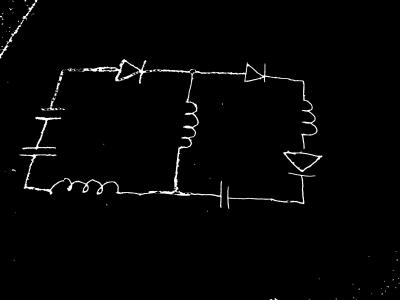capacitor: (37, 177, 128, 198), (172, 96, 201, 159), (296, 92, 320, 142)
diode: (17, 142, 60, 162), (31, 102, 67, 125), (215, 178, 235, 211)
signal: (280, 142, 326, 180), (109, 57, 151, 87), (237, 60, 273, 85)
